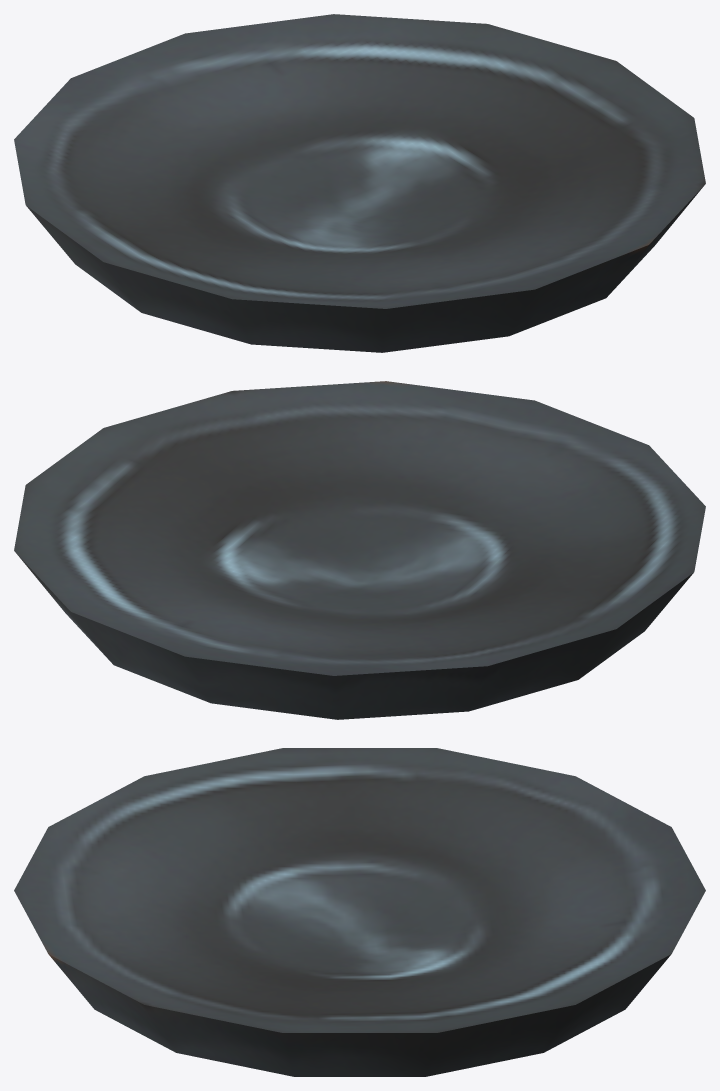
The model's file is plate_metal1.fbx.
3 renders of one model, top to bottom at view 1: azimuth 30°, elevation 25°; view 2: azimuth 150°, elevation 25°; view 3: azimuth 270°, elevation 25°, orthographic.
Visible parts, largest first — view 1: plate_metal1; view 2: plate_metal1; view 3: plate_metal1.
Boxes of the visible parts, x1,y1,x2,y2 form: plate_metal1: [14, 14, 705, 352]; plate_metal1: [14, 381, 705, 719]; plate_metal1: [14, 748, 705, 1076].
Bounding box in the file's own units: 36.39 × 3.87 × 37.32.
